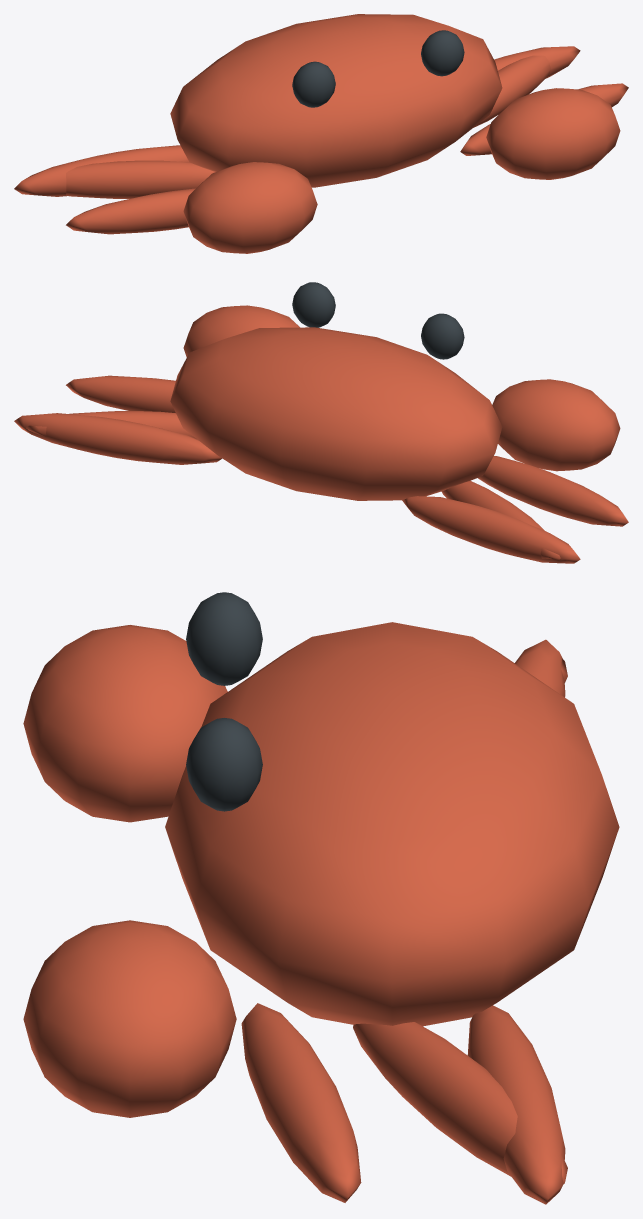
File: shore-crab.glb
3 renders of one model, top to bottom at view 1: azimuth 30°, elevation 25°; view 2: azimuth 150°, elevation 25°; view 3: azimuth 270°, elevation 25°, orthographic. The views are drawn at different scales.
Visible parts, largest first — view 1: Carapace.001, Claw, Claw.001, Leg.001, Leg, Leg.002, Leg.004, Eye.004, Eye.005, Leg.003, Leg.005; view 2: Carapace.001, Claw, Leg.005, Leg.002, Leg, Leg.003, Claw.001, Leg.001, Eye.004, Eye.005, Leg.004; view 3: Carapace.001, Claw.001, Claw, Leg.003, Leg.004, Leg.005, Eye.005, Eye.004, Leg.002.
Boxes of the visible parts, x1,y1,x2,y2 form: Carapace.001: (170, 14, 502, 187); Claw: (183, 162, 317, 253); Claw.001: (486, 88, 620, 179); Leg.001: (66, 160, 215, 198); Leg: (66, 188, 195, 234); Leg.002: (14, 145, 188, 196); Leg.004: (473, 55, 550, 127); Eye.004: (292, 61, 335, 107); Eye.005: (421, 30, 464, 76); Leg.003: (460, 83, 628, 155); Leg.005: (494, 46, 580, 78); Carapace.001: (170, 327, 502, 500); Claw: (492, 379, 620, 471); Leg.005: (14, 413, 221, 464); Leg.002: (402, 496, 580, 563); Leg: (478, 456, 628, 526); Leg.003: (66, 375, 175, 412); Claw.001: (183, 305, 299, 357); Leg.001: (441, 481, 560, 559); Eye.004: (421, 313, 464, 359); Eye.005: (292, 282, 335, 327); Leg.004: (26, 411, 196, 438); Carapace.001: (165, 622, 619, 1026); Claw.001: (23, 920, 236, 1117); Claw: (23, 625, 227, 822); Leg.003: (241, 1003, 361, 1202); Leg.004: (353, 1022, 567, 1184); Leg.005: (467, 1005, 565, 1204); Eye.005: (186, 718, 262, 811); Eye.004: (186, 592, 262, 685); Leg.002: (515, 639, 565, 697).
Size of the model in its own units: 0.7487 by 0.191 by 0.341.
